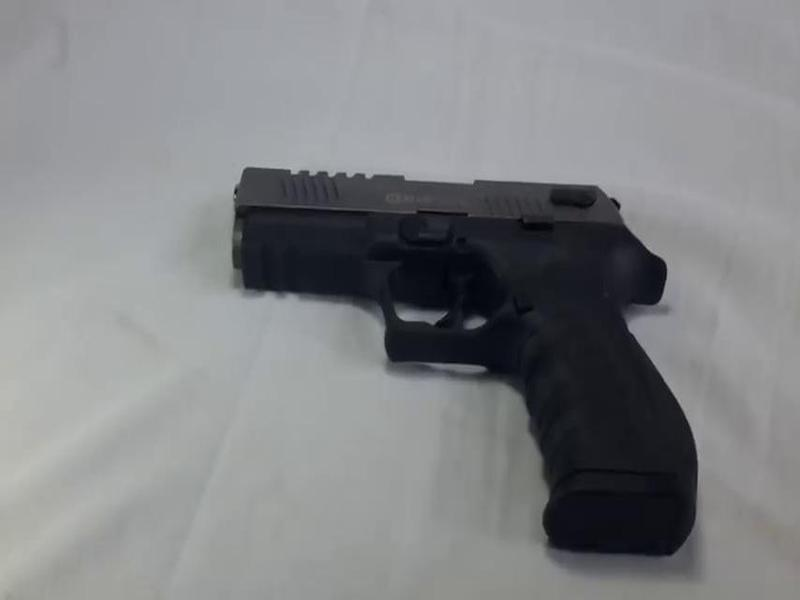Pistola: (208, 135, 732, 578)
